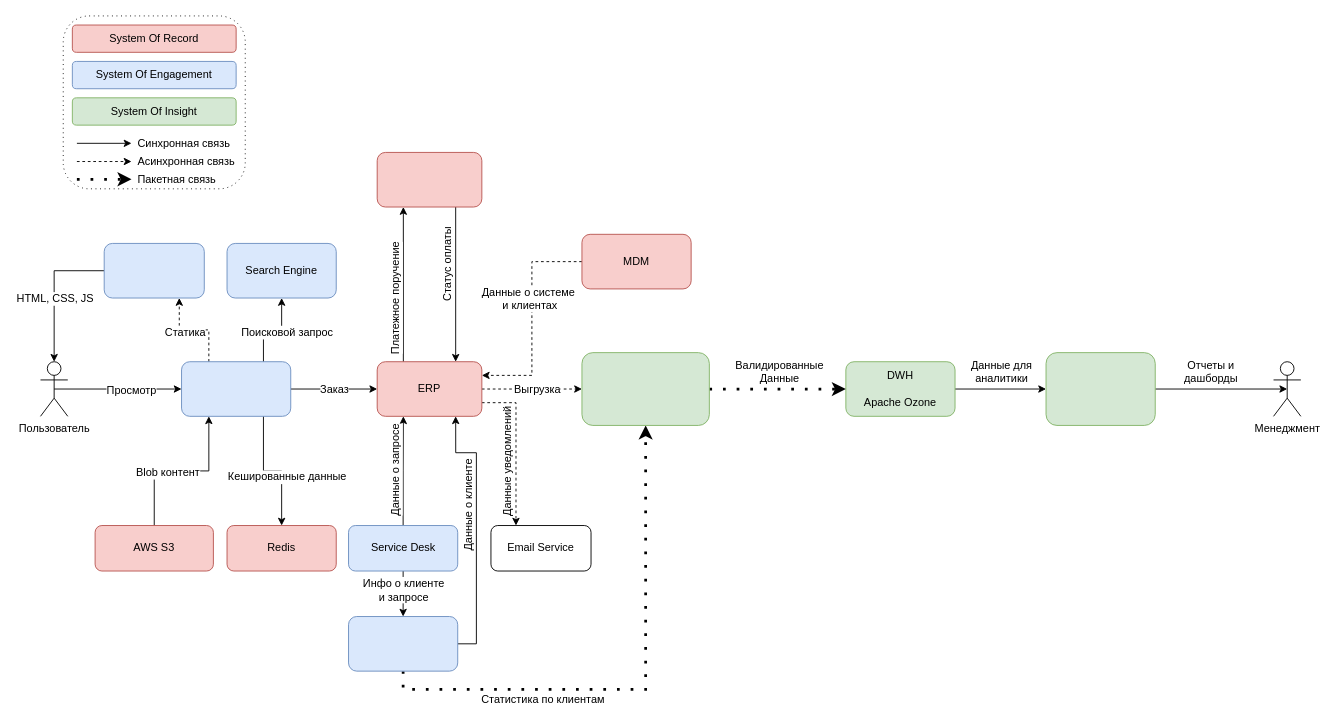
Image size: 1335x721. Some labels were removed from this diagram. Here are the shapes that lost their labels. From the top down, the box of each, then its label:
(376, 152, 482, 207): Платежный шлюз
(103, 243, 204, 298): CDN
(181, 361, 291, 416): Клиент/Каталог
(581, 352, 709, 425): Data Quality Platform Soda Core
(1045, 352, 1155, 425): BI Analitics
(348, 616, 458, 671): CRM
